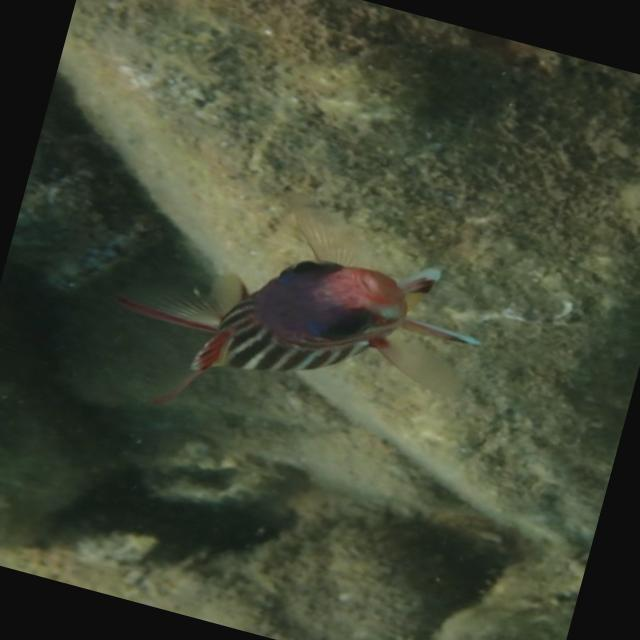Asker Baligi: (77, 182, 496, 487)
